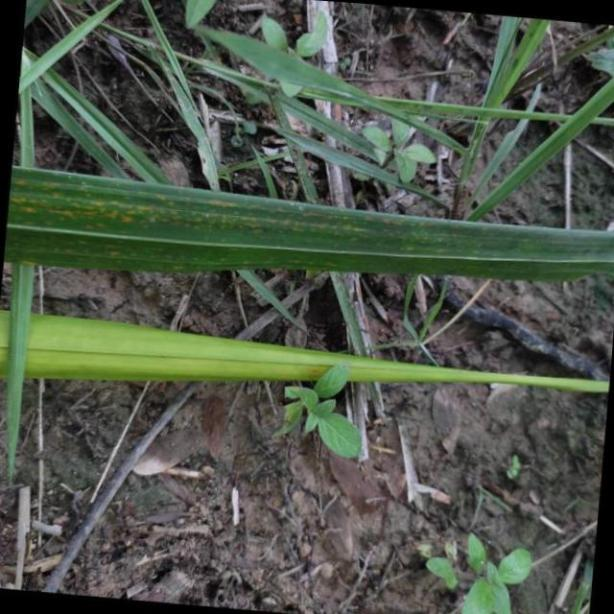nitrogen: (11, 158, 614, 282), (0, 308, 614, 400)
